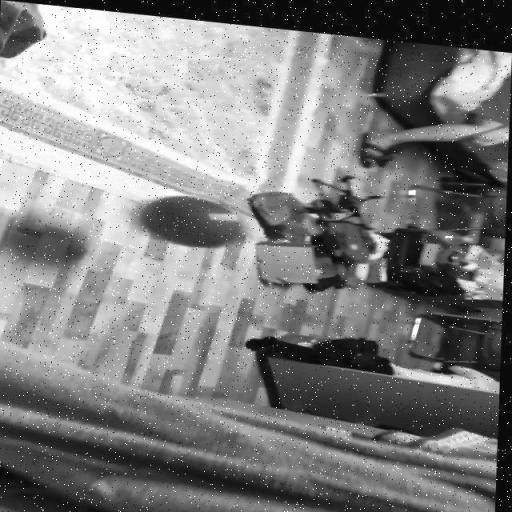balloon: (136, 188, 252, 250)
